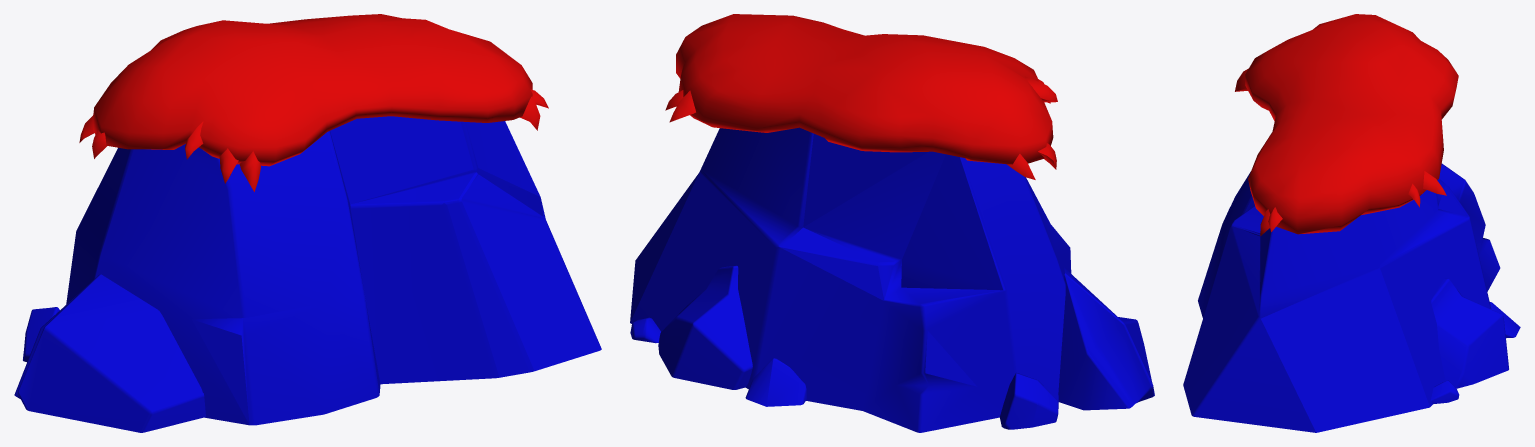
File: LargeRock_b.glb
3 renders of one model, left to right at view 1: azimuth 30°, elevation 25°; view 2: azimuth 150°, elevation 25°; view 3: azimuth 270°, elevation 25°, orthographic. The views are drawn at different scales.
Parts seen in each view (by area): view 1: LargeRock_b; view 2: LargeRock_b; view 3: LargeRock_b.
Boxes of the visible parts, bbox=[...] form: LargeRock_b: bbox=[14, 14, 601, 432]; LargeRock_b: bbox=[630, 14, 1154, 432]; LargeRock_b: bbox=[1183, 14, 1520, 432].
Bounding box in the file's own units: 7.43 × 4.09 × 4.69.
